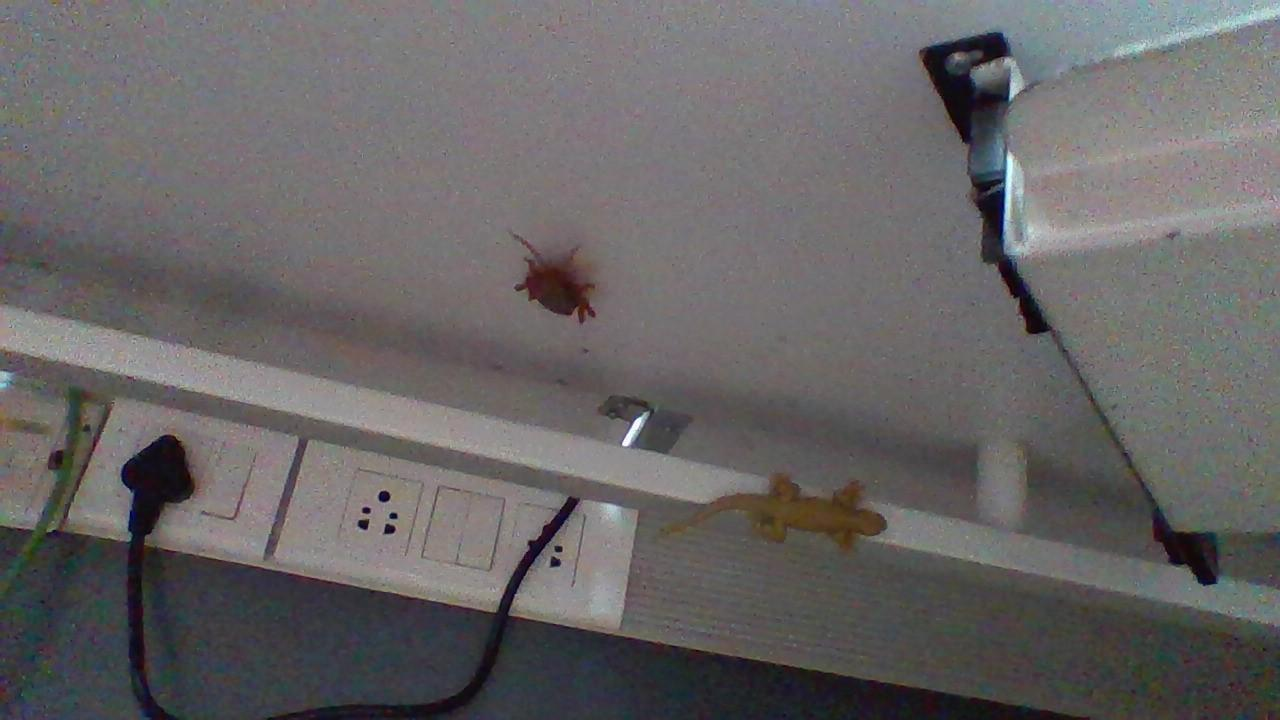cockroach: (489, 226, 605, 329)
lizard: (653, 469, 886, 565)
